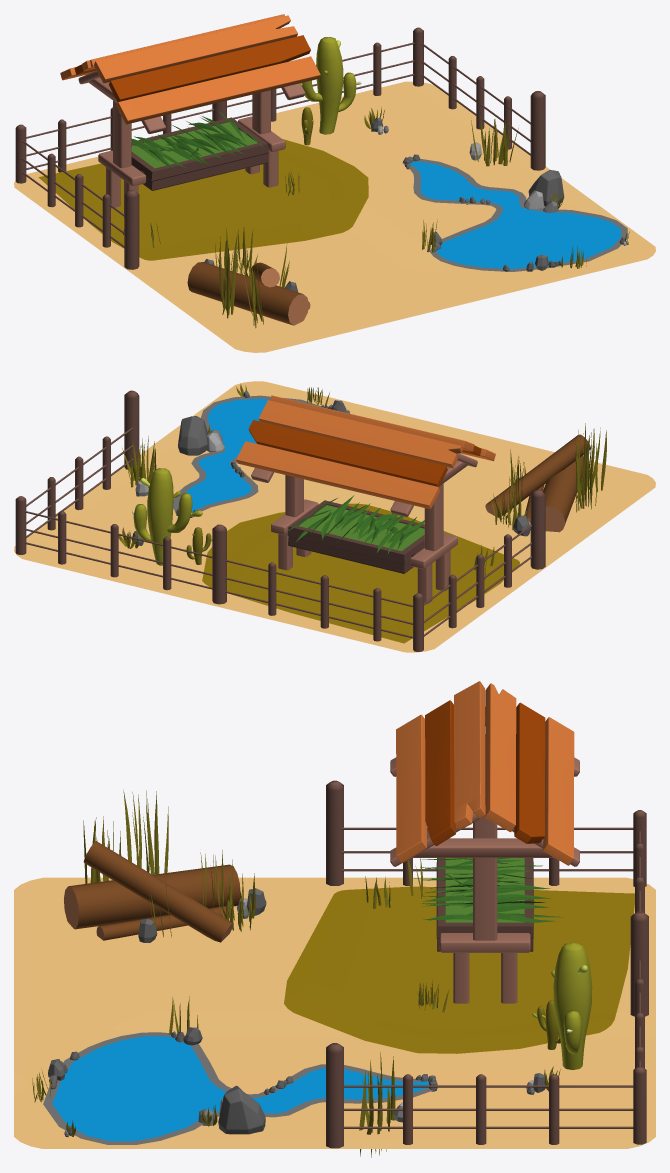
The model's file is chuong_ngua.fbx.
The picture shows the model from 3 angles, top to bottom: view 1: azimuth 30°, elevation 25°; view 2: azimuth 150°, elevation 25°; view 3: azimuth 270°, elevation 25°; orthographic projection. The views are drawn at different scales.
Parts seen in each view (by area): view 1: Nenco1, Mangthucan, grass1, ho_nuoc, hang_rao1, wood, xuong_rong, grass; view 2: Nenco1, Mangthucan, grass1, hang_rao1, ho_nuoc, wood, xuong_rong, grass; view 3: Nenco1, Mangthucan, grass1, ho_nuoc, hang_rao1, wood, xuong_rong, grass.
Part boxes in pixels (<box>): Nenco1: <box>14,81,655,352</box>; Mangthucan: <box>60,14,320,217</box>; grass1: <box>38,139,368,260</box>; ho_nuoc: <box>402,154,629,271</box>; hang_rao1: <box>15,27,545,269</box>; wood: <box>187,227,310,328</box>; xuong_rong: <box>300,37,361,145</box>; grass: <box>123,107,518,248</box>; Nenco1: <box>14,381,655,652</box>; Mangthucan: <box>236,395,495,604</box>; grass1: <box>202,503,519,643</box>; hang_rao1: <box>15,390,545,651</box>; ho_nuoc: <box>173,383,349,517</box>; wood: <box>485,423,606,536</box>; xuong_rong: <box>132,468,212,565</box>; grass: <box>118,436,494,580</box>; Nenco1: <box>14,877,655,1148</box>; Mangthucan: <box>390,681,579,1003</box>; grass1: <box>284,886,634,1053</box>; ho_nuoc: <box>32,996,437,1144</box>; hang_rao1: <box>326,780,648,1148</box>; wood: <box>64,789,266,942</box>; xuong_rong: <box>532,942,592,1069</box>; grass: <box>359,858,560,1157</box>.
Size of the model in its own units: 1300 by 553 by 1300.
